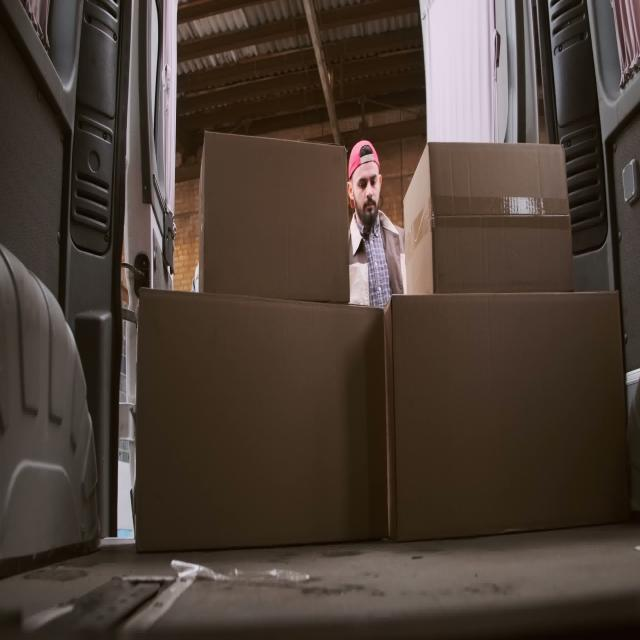counting-the-number-of-boxes: (136, 291, 389, 559), (384, 294, 632, 546), (402, 141, 574, 295), (198, 133, 350, 301)
